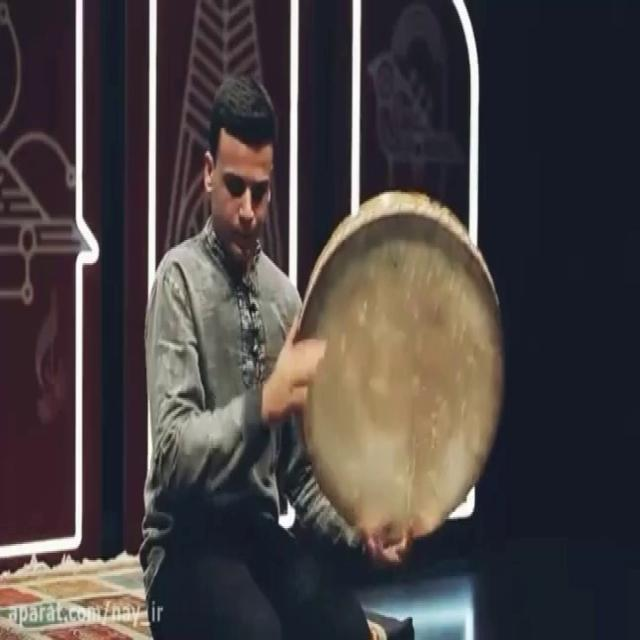Daf: (282, 190, 508, 553)
